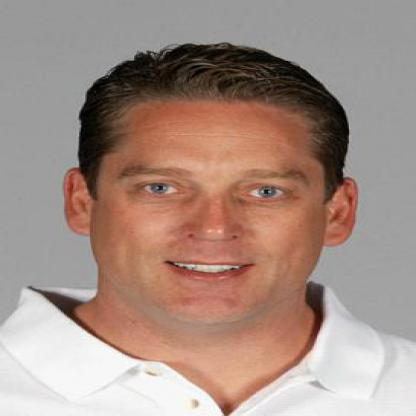face: (90, 57, 336, 327)
